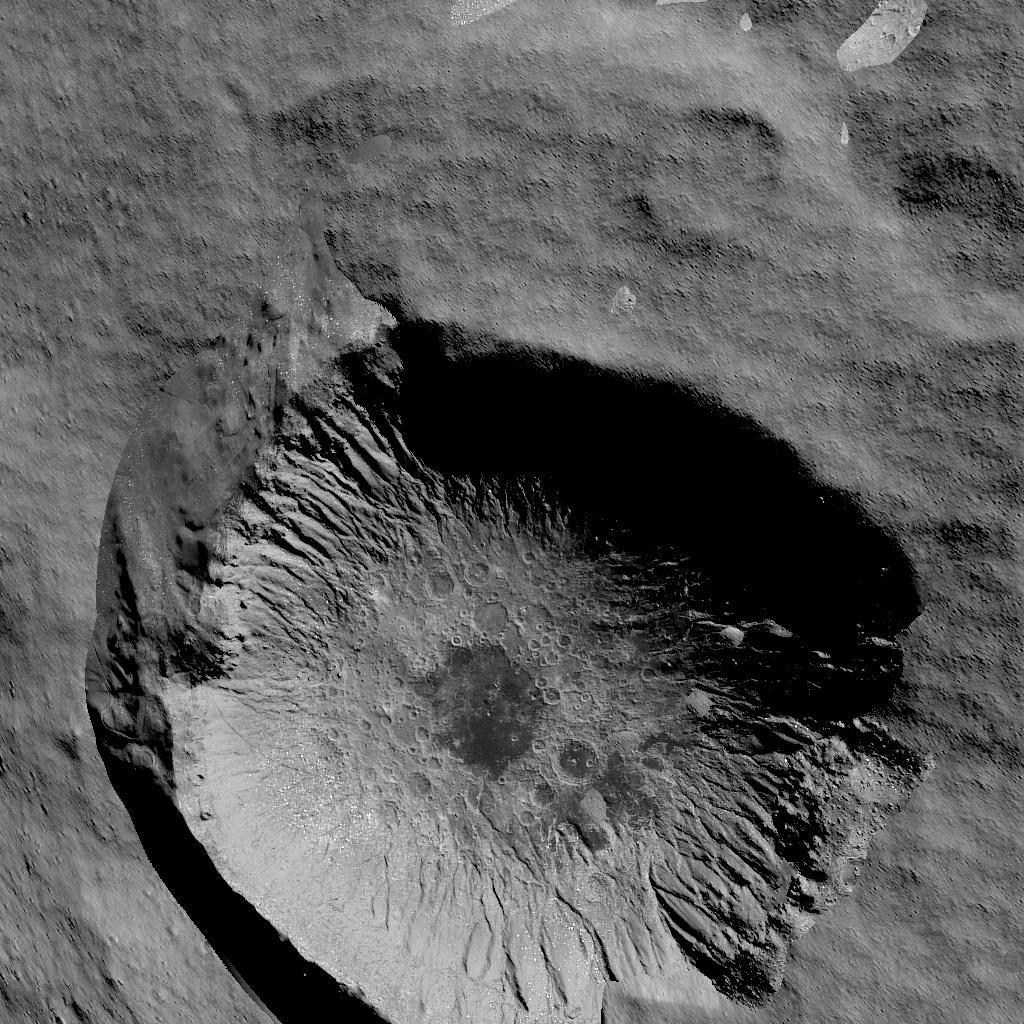Crater: (70, 273, 938, 1024), (644, 75, 810, 246)
Plan surface: (9, 0, 624, 260)
